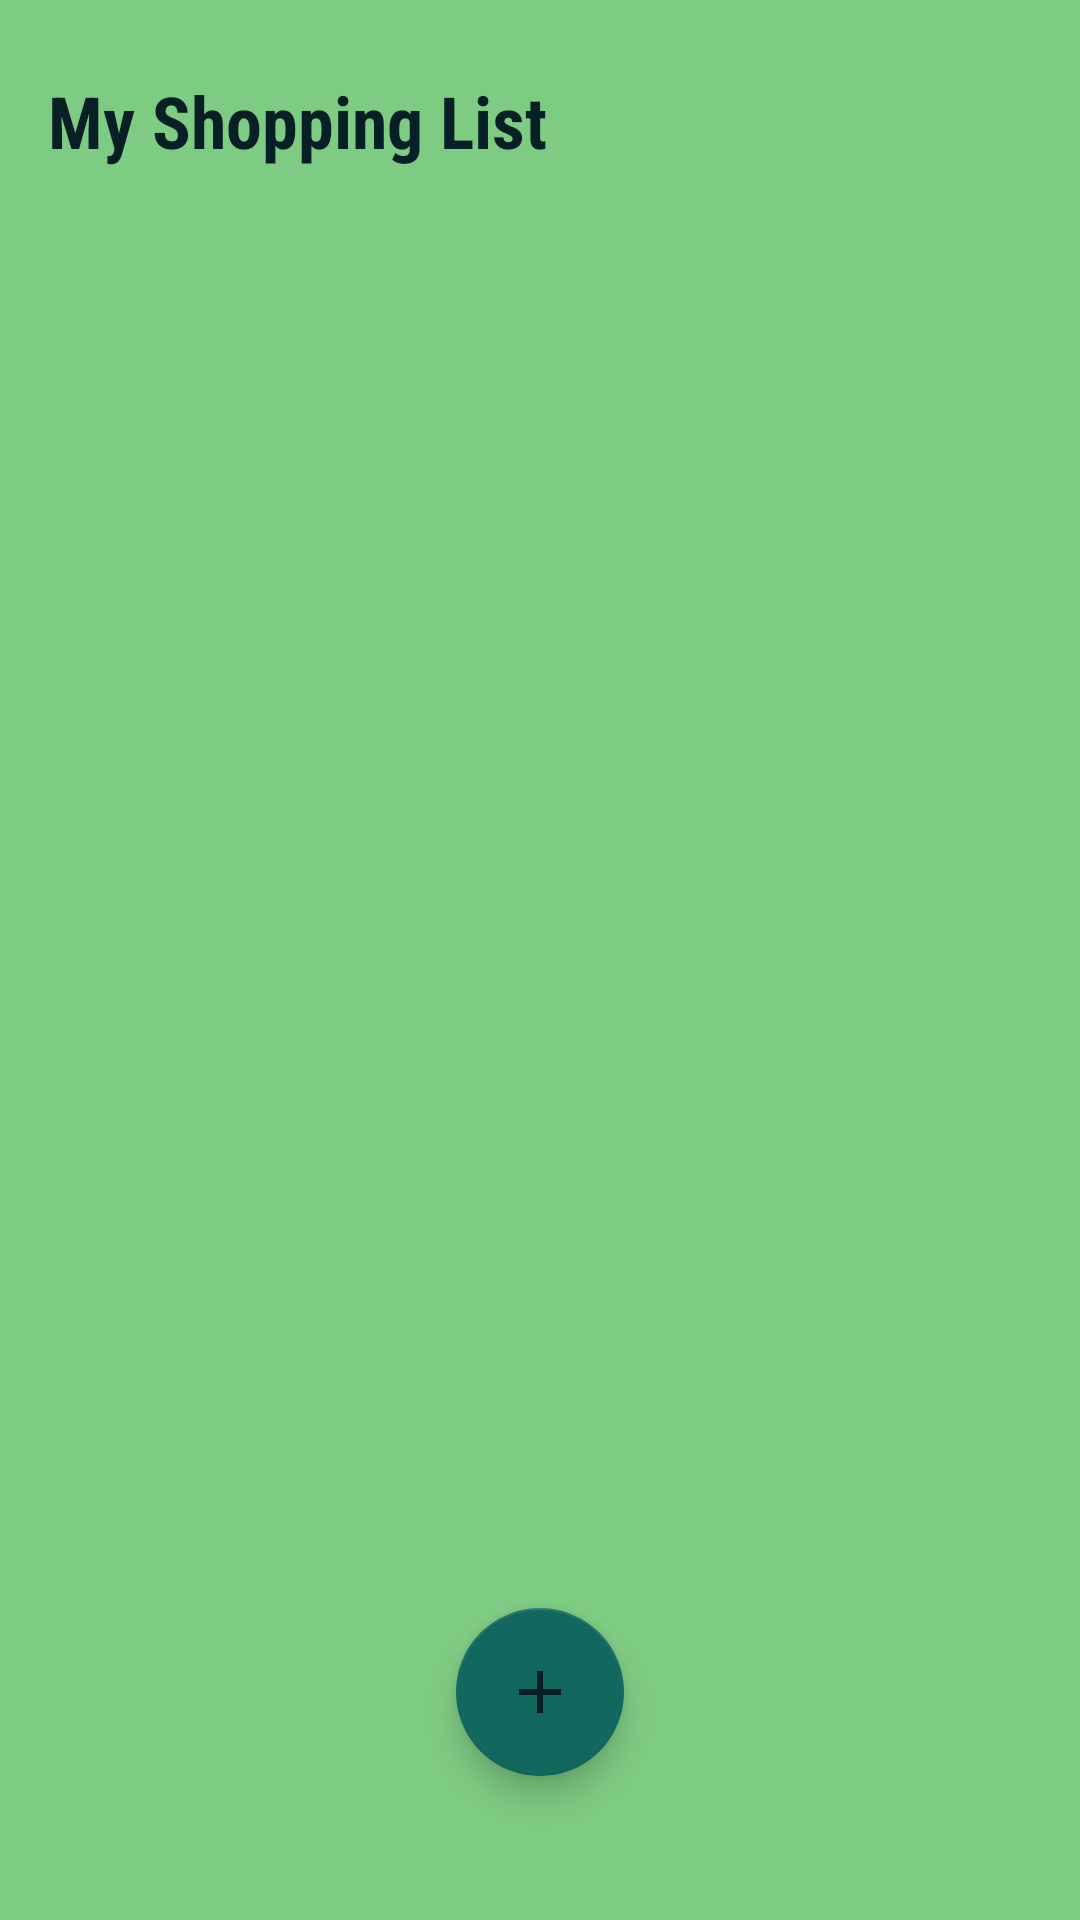

Icons on this 1080 × 1920 Android screen, each with its box as (x1, y1, x2, y2):
Add an ingredient to the shopping list: (456, 1608, 624, 1776)
